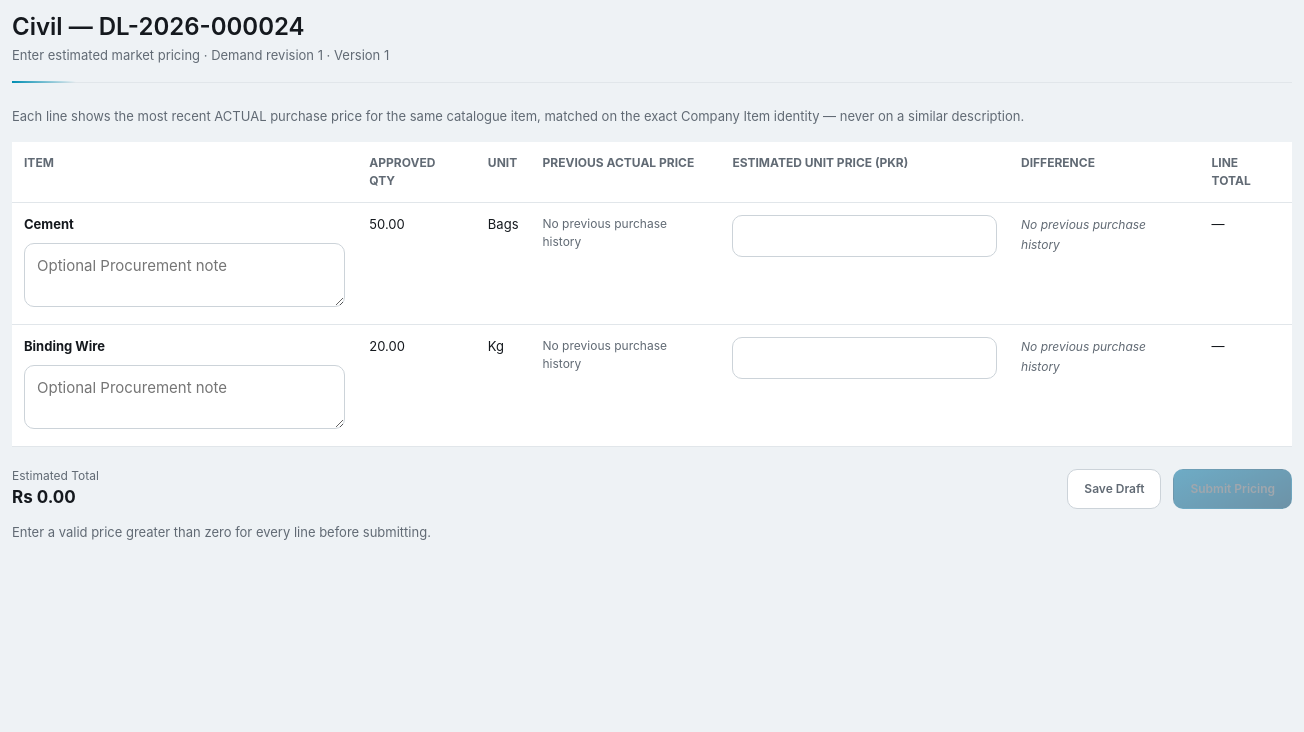
Test: PricingPage › submits complete pricing and changes the screen to immutable pending-final state
Type "100.00" into the field named "Estimated unit price for Cement".
click(865, 236); type("100.00")  # box [732, 215, 997, 257]
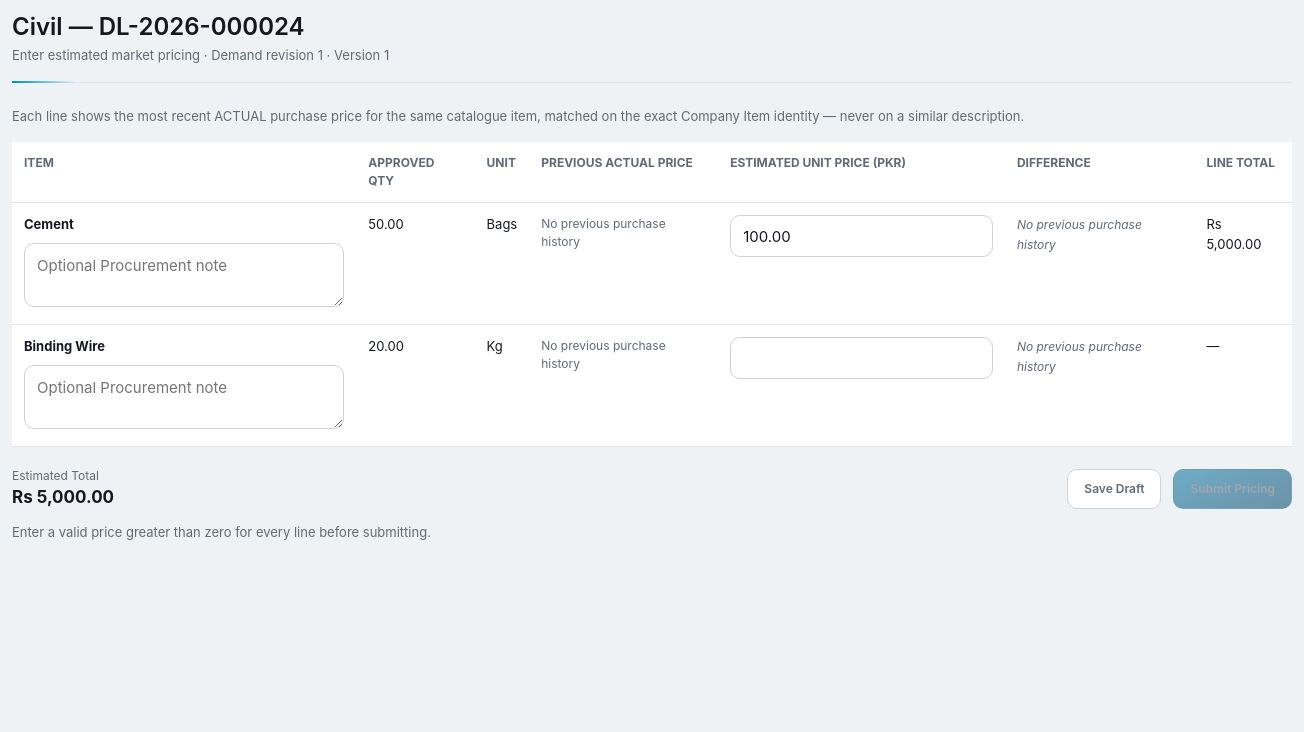
Type "2.50" into the field named "Estimated unit price for Binding Wire".
click(862, 358); type("2.50")  # box [730, 337, 993, 379]
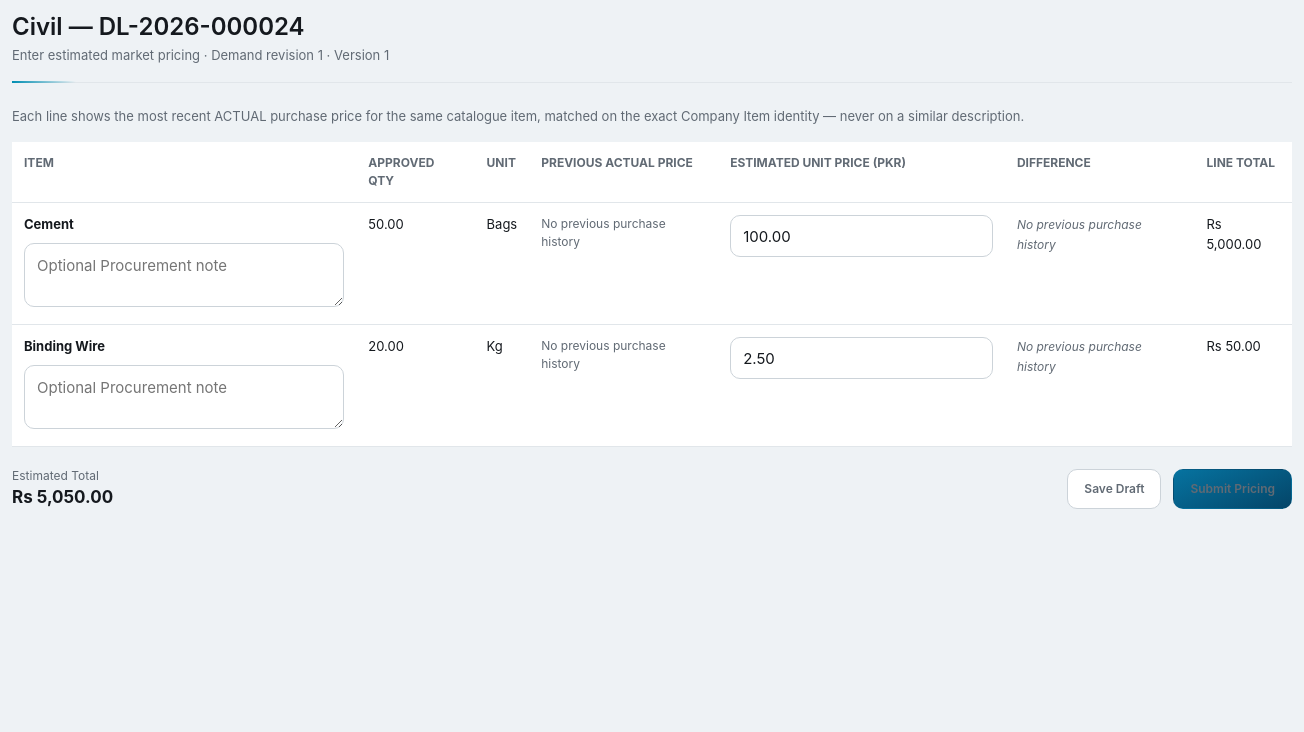
Click the button "Submit Pricing".
click(1233, 489)  # box [1174, 469, 1292, 509]
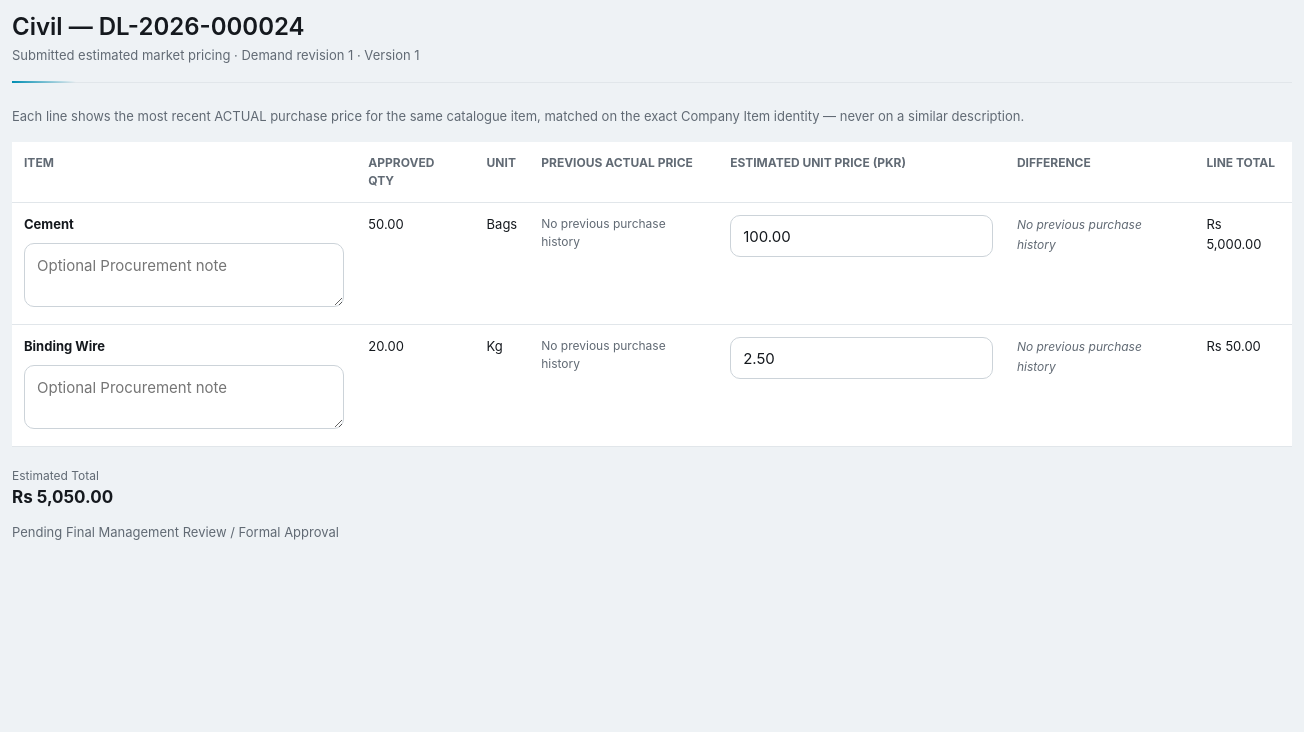
Expected: the text "Pending Final Management Review / Formal Approval" is shown, [12, 524, 339, 540]
Expected: the button "Save Draft" is gone
Expected: the button "Submit Pricing" is gone
